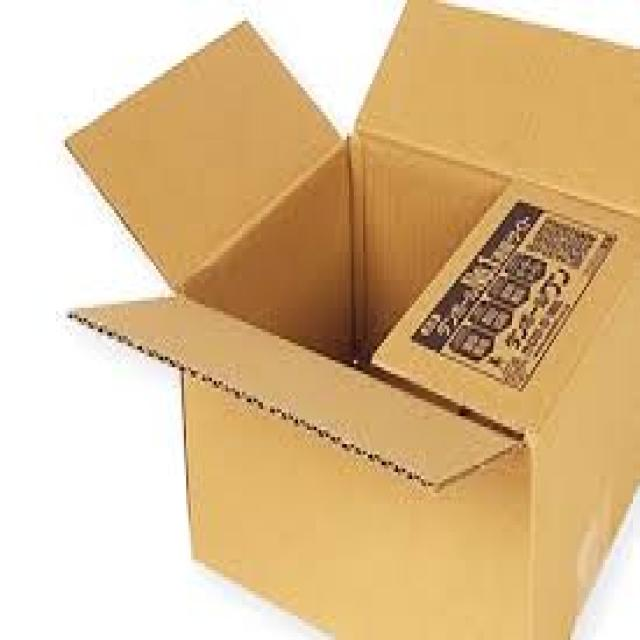cardboard: (61, 0, 638, 637)
